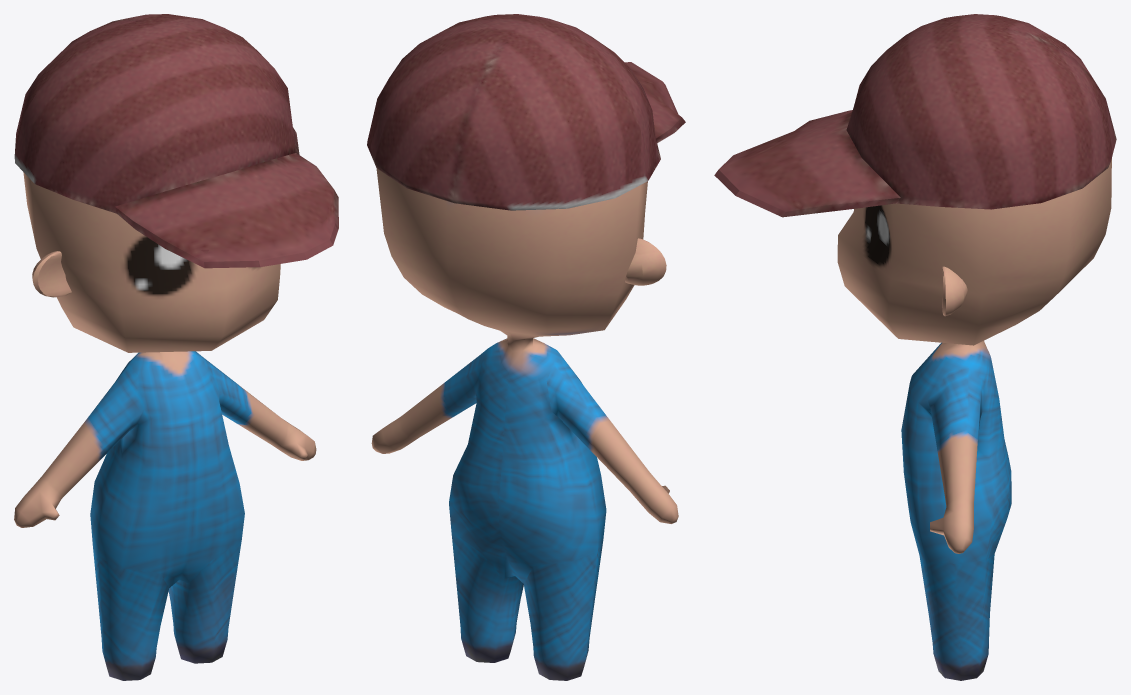
Rendered from avatar1.glb.
3 views of the same model, side by side, from view 1: azimuth 30°, elevation 25°; view 2: azimuth 150°, elevation 25°; view 3: azimuth 270°, elevation 25° (orthographic). The views are drawn at different scales.
Visible parts, largest first — view 1: polySurface3, cap, polySurface4; view 2: polySurface3, cap, polySurface4; view 3: polySurface3, cap, polySurface1.
Part boxes in pixels (box(x1,y1,x2,y2)): polySurface3: box(14, 172, 316, 680); cap: box(14, 14, 338, 268); polySurface4: box(32, 251, 71, 297); polySurface3: box(371, 168, 678, 680); cap: box(367, 14, 685, 210); polySurface4: box(625, 238, 666, 285); polySurface3: box(837, 158, 1111, 680); cap: box(714, 14, 1116, 217); polySurface1: box(942, 266, 967, 316).
Size of the model in its own units: 4.34 by 8.81 by 5.08.
1 material, 1 textured.
